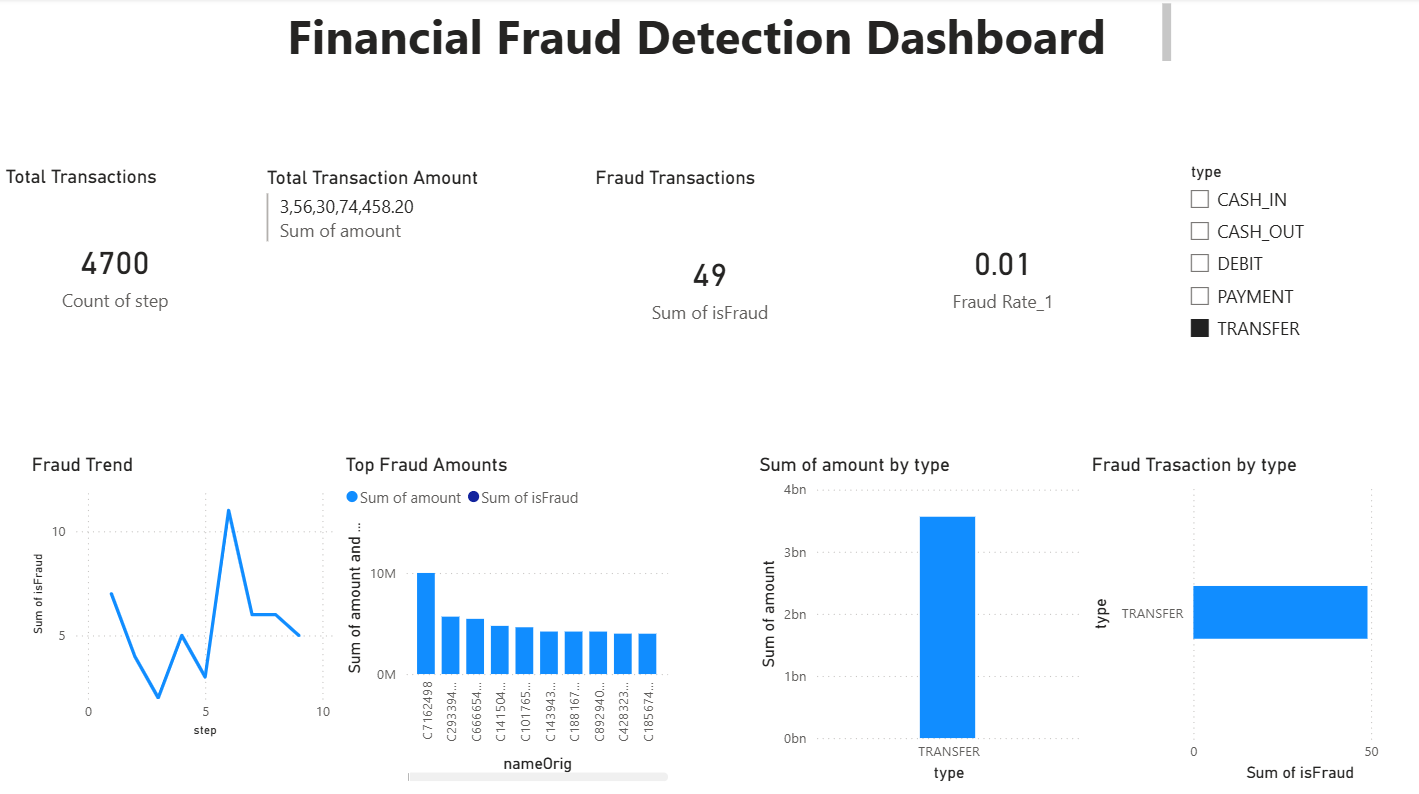

This screenshot's page, from the dashboard's own definition file:
{"tool":"powerbi","page":{"name":"Page 1","canvas":[1280,720],"ordinal":0},"visuals":[{"type":"clusteredColumnChart","fields":{"Y":["Sum(fraud_analysis_data.amount)"],"Category":["fraud_analysis_data.type"]},"box":[679.2,410.5,299.8,301],"z":0},{"type":"multiRowCard","title":"Total Transaction Amount","fields":{"Values":["Sum(fraud_analysis_data.amount)"]},"box":[235.2,152.5,203.8,183.9],"z":1000},{"type":"card","title":"Total Transactions","fields":{"Values":["CountNonNull(fraud_analysis_data.step)"]},"box":[0,151.1,208.1,175.3],"z":2000},{"type":"card","title":"Fraud Transactions","fields":{"Values":["Sum(fraud_analysis_data.isFraud)"]},"box":[531.7,152.5,216.7,193.9],"z":3000},{"type":"slicer","fields":{"Values":["fraud_analysis_data.type"]},"box":[1060.7,142.7,219.6,183.9],"z":6000},{"type":"lineStackedColumnComboChart","title":"Top Fraud Amounts","fields":{"Category":["fraud_analysis_data.nameOrig"],"Y":["Sum(fraud_analysis_data.amount)","Sum(fraud_analysis_data.isFraud)"]},"box":[306,410.5,301,301],"z":7000},{"type":"lineChart","title":"Fraud Trend","fields":{"Category":["fraud_analysis_data.step"],"Y":["Sum(fraud_analysis_data.isFraud)"]},"box":[24.2,410.5,282.2,260.8],"z":8000},{"type":"barChart","title":"Fraud Trasaction by type","fields":{"Category":["fraud_analysis_data.type"],"Y":["Sum(fraud_analysis_data.isFraud)"]},"box":[979,410.5,301,301],"z":9000},{"type":"textbox","box":[253.9,0,819.2,64.5],"z":10000},{"type":"card","fields":{"Values":["fraud_analysis_data.Fraud Rate_1"]},"box":[748.3,152.5,312.4,193.9],"z":10001}]}

Visuals, with their boxes in screenshot pixels (x1, y1, x2, y2), scaled from the page's 1280x720 canvas onto the 1419x794 screenshot:
clusteredColumnChart - Sum(fraud_analysis_data.amount) x fraud_analysis_data.type: <region>753, 453, 1085, 785</region>
"Total Transaction Amount" multiRowCard: <region>261, 168, 487, 371</region>
"Total Transactions" card: <region>0, 167, 231, 360</region>
"Fraud Transactions" card: <region>589, 168, 830, 382</region>
slicer - fraud_analysis_data.type: <region>1176, 157, 1418, 360</region>
"Top Fraud Amounts" lineStackedColumnComboChart: <region>339, 453, 673, 785</region>
"Fraud Trend" lineChart: <region>27, 453, 340, 740</region>
"Fraud Trasaction by type" barChart: <region>1085, 453, 1418, 785</region>
textbox: <region>281, 0, 1190, 71</region>
card - fraud_analysis_data.Fraud Rate_1: <region>830, 168, 1176, 382</region>
